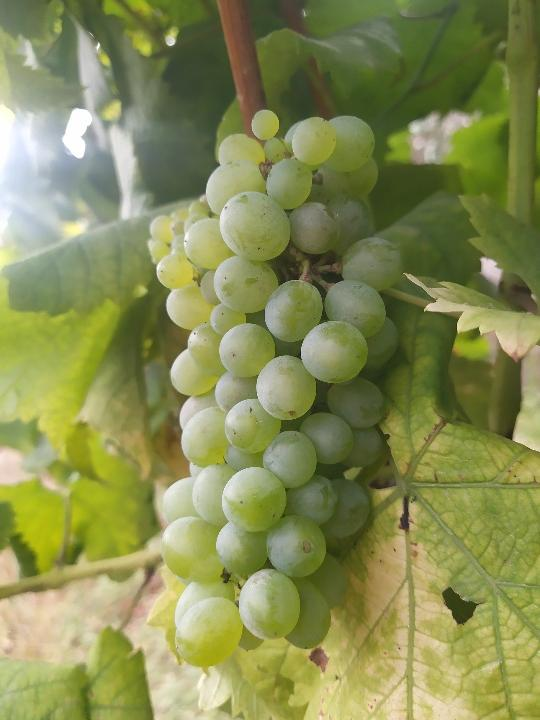grape: (154, 108, 408, 672)
